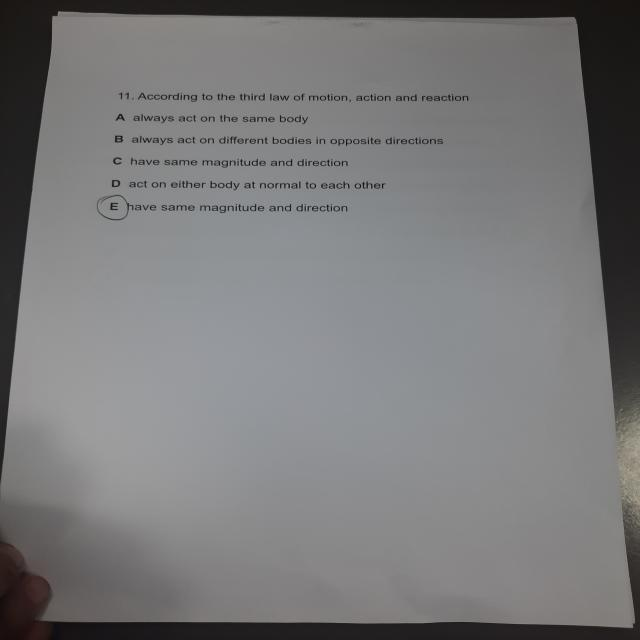E: (96, 196, 133, 222)
